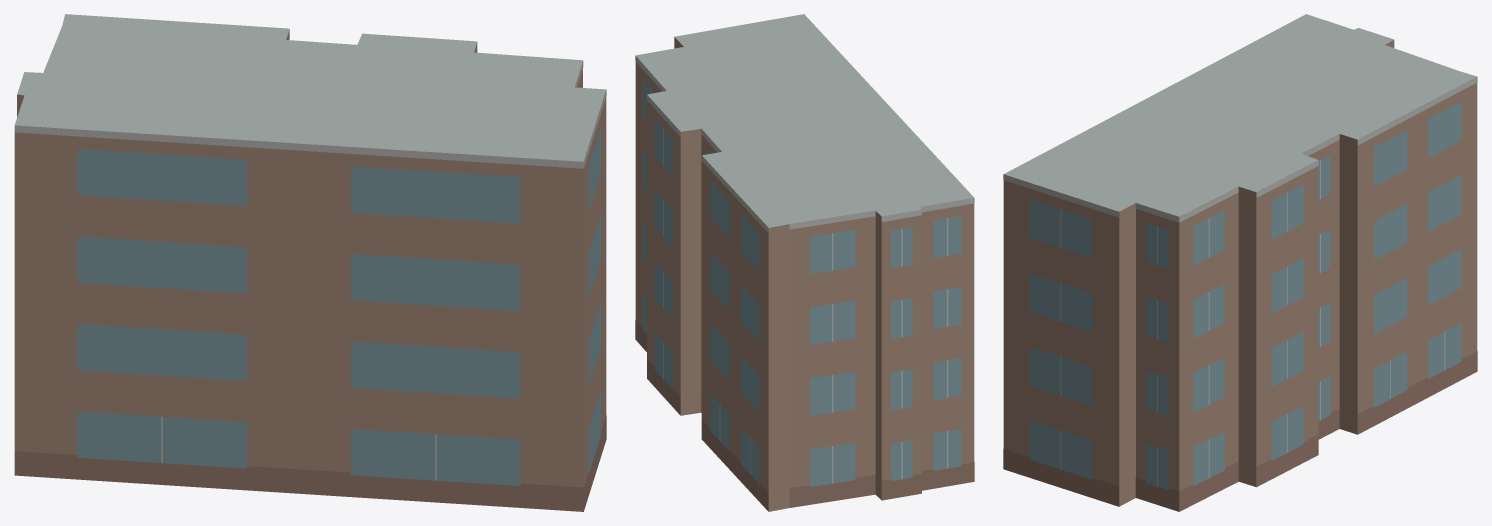
File: survey-upis-32633437.glb
3 views of the same model, side by side, from view 1: azimuth 30°, elevation 25°; view 2: azimuth 150°, elevation 25°; view 3: azimuth 270°, elevation 25° (orthographic). The views are drawn at different scales.
Visible parts, largest first — view 1: survey-upis-32633437.tmp; view 2: survey-upis-32633437.tmp; view 3: survey-upis-32633437.tmp.
Part boxes in pixels (bbox=[...]): survey-upis-32633437.tmp: bbox=[14, 14, 606, 511]; survey-upis-32633437.tmp: bbox=[635, 14, 974, 511]; survey-upis-32633437.tmp: bbox=[1003, 14, 1477, 511].
Bounding box in the file's own units: 18.07 × 12.25 × 17.84.
